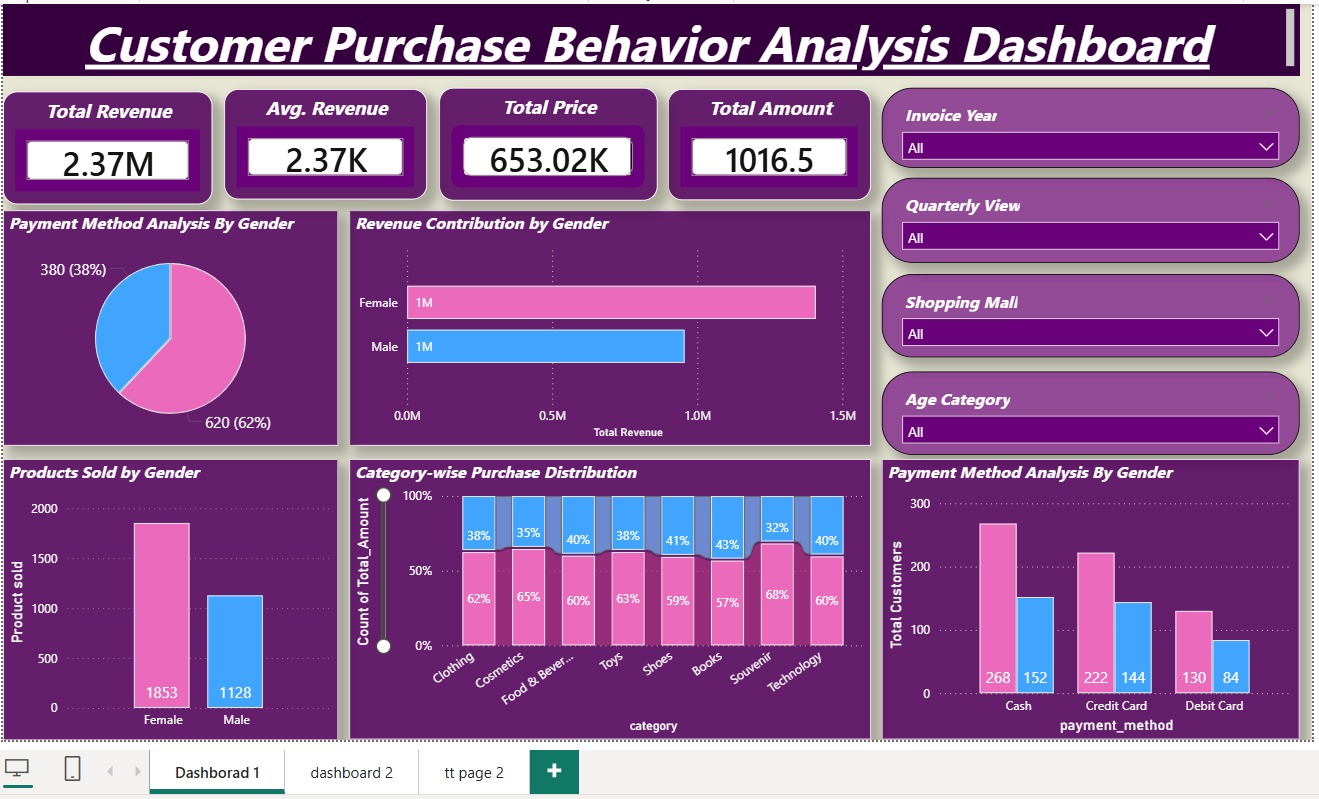

The dashboard page shown, as its layout file describes it:
{"tool":"powerbi","page":{"name":"Dashborad 1 ","canvas":[1280,720],"ordinal":0},"visuals":[{"type":"textbox","box":[0,0,1280,720],"z":0},{"type":"clusteredColumnChart","title":"Products Sold by Gender","fields":{"Category":["PROJECT 1.gender"],"Y":["PROJECT 1.Product sold"]},"box":[0,445,328.3,275],"z":1000},{"type":"barChart","title":"Revenue Contribution by Gender","fields":{"Category":["PROJECT 1.gender"],"Y":["PROJECT 1.Total Revenue"]},"box":[338.3,201.7,510,230],"z":2000},{"type":"hundredPercentStackedColumnChart","title":"Category-wise Purchase Distribution","fields":{"Category":["PROJECT 1.category"],"Series":["PROJECT 1.gender"],"Y":["CountNonNull(PROJECT 1.Total_Amount)"]},"box":[338.6,445.7,510,274.3],"z":3000},{"type":"cardVisual","title":"Total Revenue","fields":{"Data":["PROJECT 1.Total Revenue"]},"box":[0,85,205,110],"z":4000},{"type":"cardVisual","title":"Total Amount","fields":{"Data":["Min(PROJECT 1.Total_Amount)"]},"box":[650,82.9,198.6,108.6],"z":5000},{"type":"slicer","fields":{"Values":["PROJECT 1.Age Group"]},"box":[860,360,408.6,81.4],"z":6000},{"type":"slicer","fields":{"Values":["PROJECT 1.invoice_Year"]},"box":[860,81.4,408.6,78.6],"z":7000},{"type":"slicer","fields":{"Values":["PROJECT 1.invoice_Quarter"]},"box":[860,170,408.6,82.9],"z":8000},{"type":"cardVisual","title":"Total Price","fields":{"Data":["Sum(PROJECT 1.price)"]},"box":[426.7,81.7,213.3,110],"z":9000},{"type":"slicer","fields":{"Values":["PROJECT 1.shopping_mall"]},"box":[860,264.3,408.6,81.4],"z":10000},{"type":"pieChart","title":"Payment Method Analysis By Gender","fields":{"Series":["PROJECT 1.gender"],"Y":["PROJECT 1.Total Customers"],"Category":["PROJECT 1.gender"]},"box":[0,201.7,328.3,230],"z":11000},{"type":"textbox","box":[0,0,1268.6,70],"z":12000},{"type":"cardVisual","title":"Avg. Revenue","fields":{"Data":["PROJECT 1.Avg Revenue"]},"box":[216.7,83.3,198.3,108.3],"z":13000},{"type":"clusteredColumnChart","title":"Payment Method Analysis By Gender","fields":{"Category":["PROJECT 1.payment_method"],"Series":["PROJECT 1.gender"],"Y":["PROJECT 1.Total Customers"]},"box":[860,445.7,408.6,274.3],"z":14000}]}

Visuals, with their boxes in screenshot pixels (x1, y1, x2, y2):
textbox: select_region(0, 0, 1301, 732)
"Products Sold by Gender" clusteredColumnChart: select_region(0, 452, 334, 732)
"Revenue Contribution by Gender" barChart: select_region(344, 205, 862, 439)
"Category-wise Purchase Distribution" hundredPercentStackedColumnChart: select_region(344, 453, 862, 732)
"Total Revenue" cardVisual: select_region(0, 86, 208, 198)
"Total Amount" cardVisual: select_region(661, 84, 862, 195)
slicer - PROJECT 1.Age Group: select_region(874, 366, 1289, 449)
slicer - PROJECT 1.invoice_Year: select_region(874, 83, 1289, 163)
slicer - PROJECT 1.invoice_Quarter: select_region(874, 173, 1289, 257)
"Total Price" cardVisual: select_region(434, 83, 650, 195)
slicer - PROJECT 1.shopping_mall: select_region(874, 269, 1289, 351)
"Payment Method Analysis By Gender" pieChart: select_region(0, 205, 334, 439)
textbox: select_region(0, 0, 1289, 71)
"Avg. Revenue" cardVisual: select_region(220, 85, 422, 195)
"Payment Method Analysis By Gender" clusteredColumnChart: select_region(874, 453, 1289, 732)
